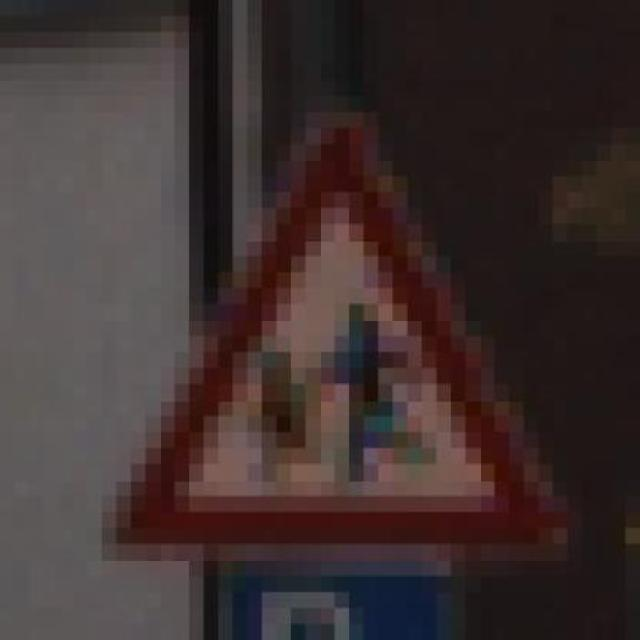Beware of children: (87, 95, 596, 592)
